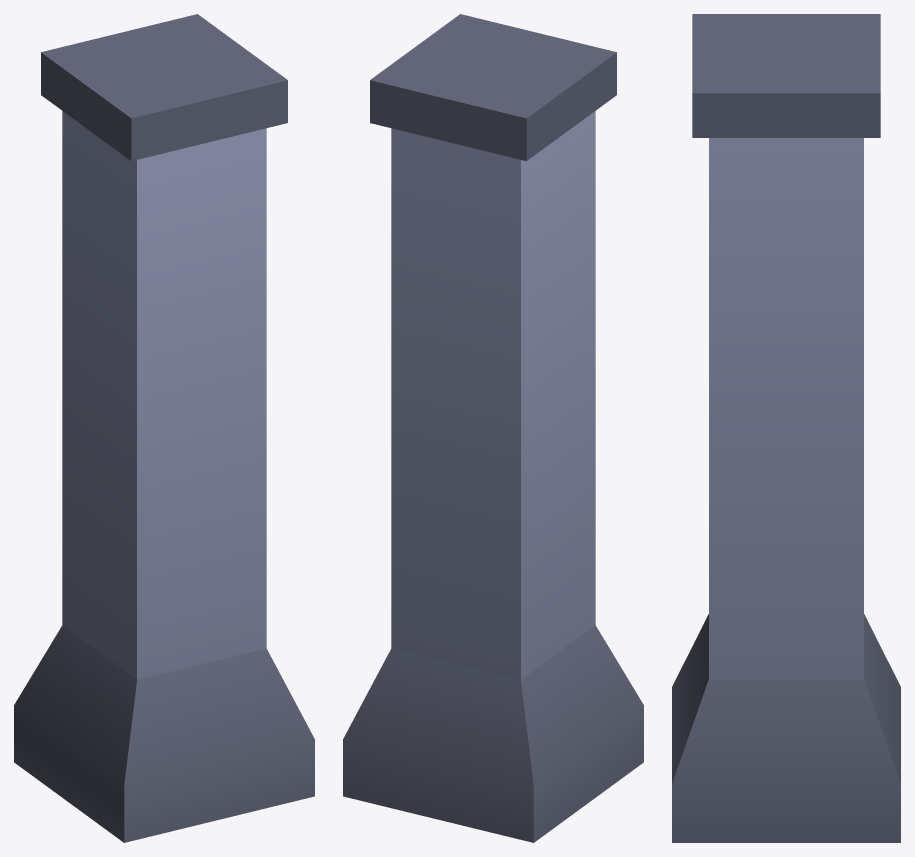
Rendered from bridge-pillar-wide.glb.
The picture shows the model from 3 angles, left to right: view 1: azimuth 30°, elevation 25°; view 2: azimuth 150°, elevation 25°; view 3: azimuth 270°, elevation 25°; orthographic projection. The views are drawn at different scales.
Parts seen in each view (by area): view 1: bridge-pillar-wide; view 2: bridge-pillar-wide; view 3: bridge-pillar-wide.
Part boxes in pixels (bbox=[...]): bridge-pillar-wide: bbox=[14, 14, 314, 842]; bridge-pillar-wide: bbox=[343, 14, 643, 842]; bridge-pillar-wide: bbox=[672, 14, 900, 842].
Bounding box in the file's own units: 0.14 × 0.5 × 0.14.
Materials: 1 (1 with a texture image).
